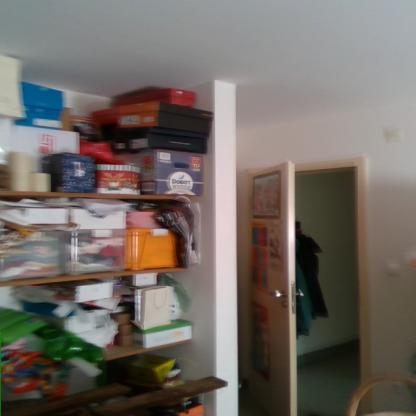semi: (236, 151, 377, 416)
